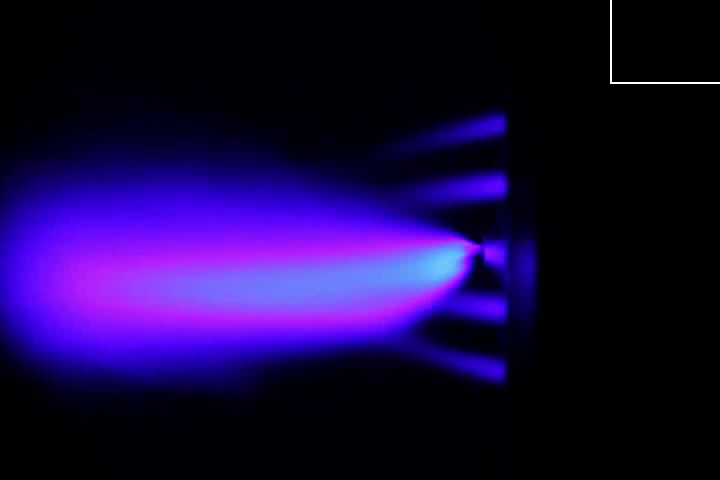burner cap: (480, 238, 507, 270)
pilot flame: (386, 101, 508, 149), (382, 168, 509, 210), (399, 338, 508, 386), (440, 294, 508, 327)
stable: (73, 229, 484, 318)
